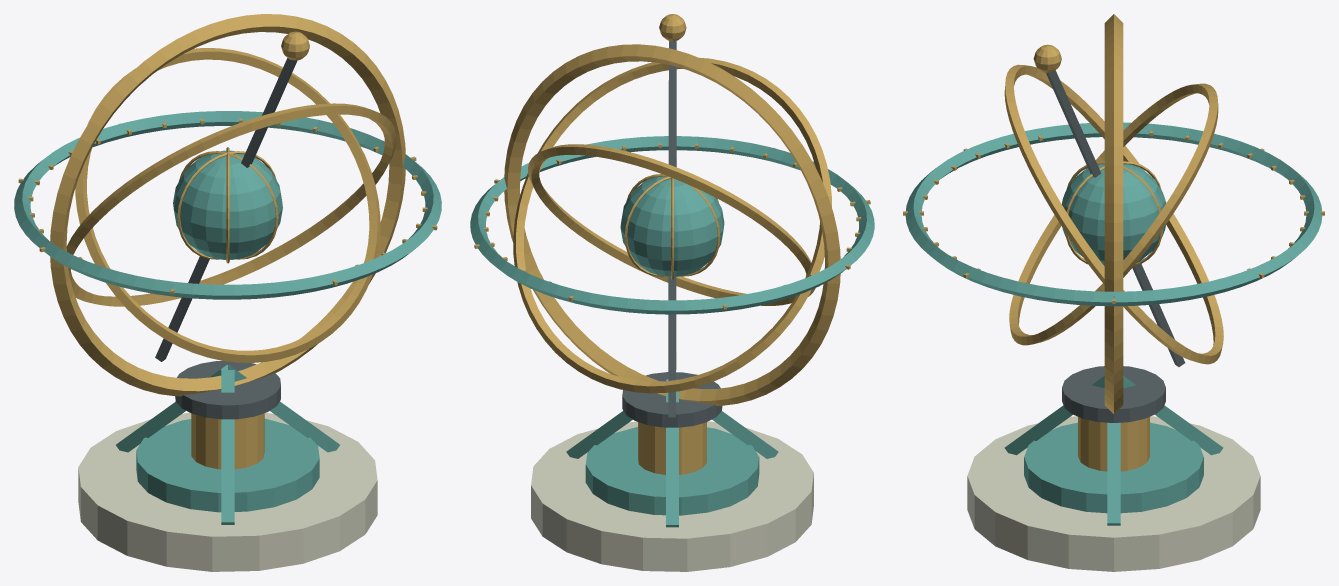
File: sky_workshop-component.glb
3 renders of one model, left to right at view 1: azimuth 30°, elevation 25°; view 2: azimuth 150°, elevation 25°; view 3: azimuth 270°, elevation 25°, orthographic. The views are drawn at different scales.
Visible parts, largest first — view 1: runtime_Aged brass, runtime_Verdigris, runtime_Warm cut limestone, runtime_Forged charcoal iron; view 2: runtime_Aged brass, runtime_Verdigris, runtime_Warm cut limestone, runtime_Forged charcoal iron; view 3: runtime_Verdigris, runtime_Aged brass, runtime_Warm cut limestone, runtime_Forged charcoal iron.
Part boxes in pixels (x1,y1,x2,y2): runtime_Aged brass: (18, 14, 437, 469); runtime_Verdigris: (14, 111, 441, 524); runtime_Warm cut limestone: (78, 412, 377, 571); runtime_Forged charcoal iron: (155, 58, 297, 419); runtime_Aged brass: (474, 14, 870, 474); runtime_Verdigris: (470, 136, 874, 527); runtime_Warm cut limestone: (531, 421, 813, 571); runtime_Forged charcoal iron: (622, 41, 722, 427); runtime_Verdigris: (905, 122, 1322, 525); runtime_Aged brass: (903, 14, 1324, 471); runtime_Warm cut limestone: (967, 416, 1260, 571); runtime_Forged charcoal iron: (1046, 70, 1185, 422).
Size of the model in its own units: 5.31 by 6.66 by 5.31.
